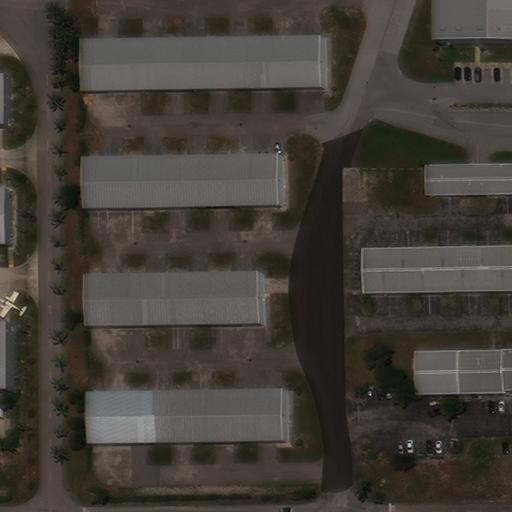Small Civil Transport: (0, 290, 25, 316)
